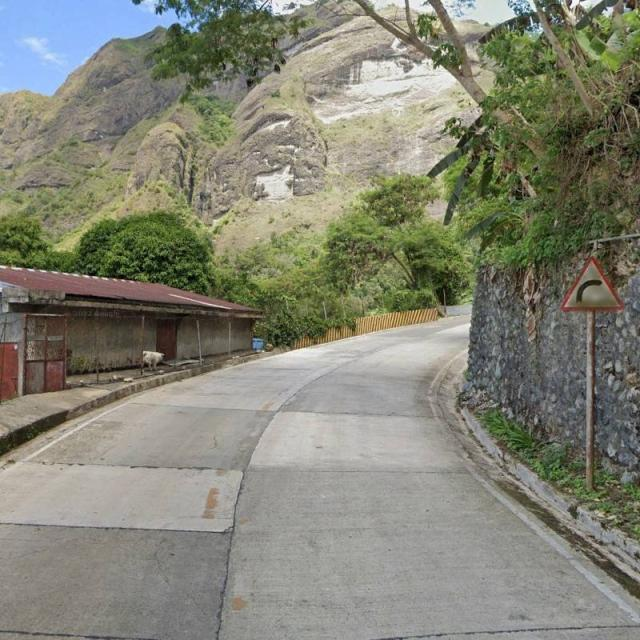warn_right_curve: (560, 257, 625, 310)
